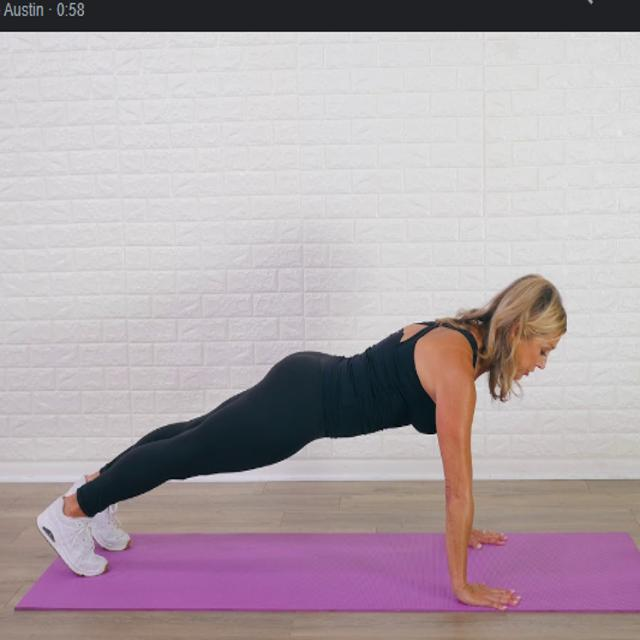Plank_Pose: (25, 268, 570, 617)
